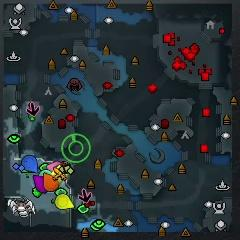p1: (22, 155, 38, 173)
p2: (40, 170, 52, 177)
p3: (32, 175, 47, 194)
p4: (55, 194, 74, 210)
p5: (43, 173, 59, 191)
x1: (47, 161, 62, 171)
x1Clone: (78, 188, 92, 204), (26, 101, 40, 116)
